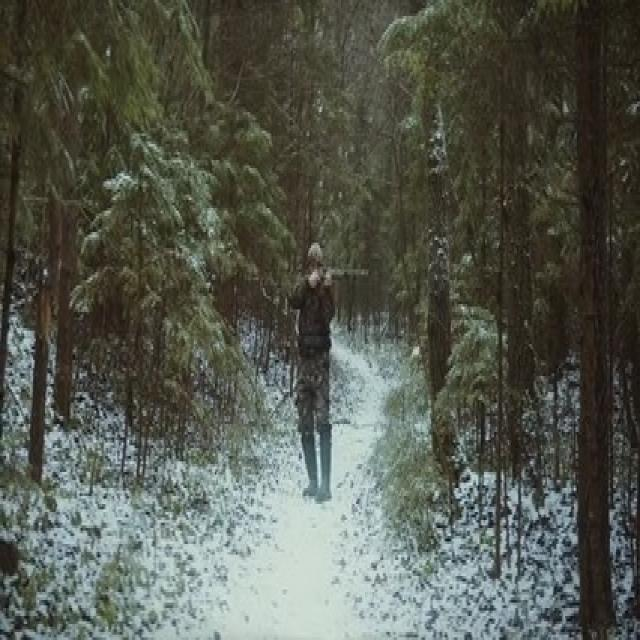Gun_Holder: (300, 264, 374, 290)
Person: (286, 238, 339, 502)
